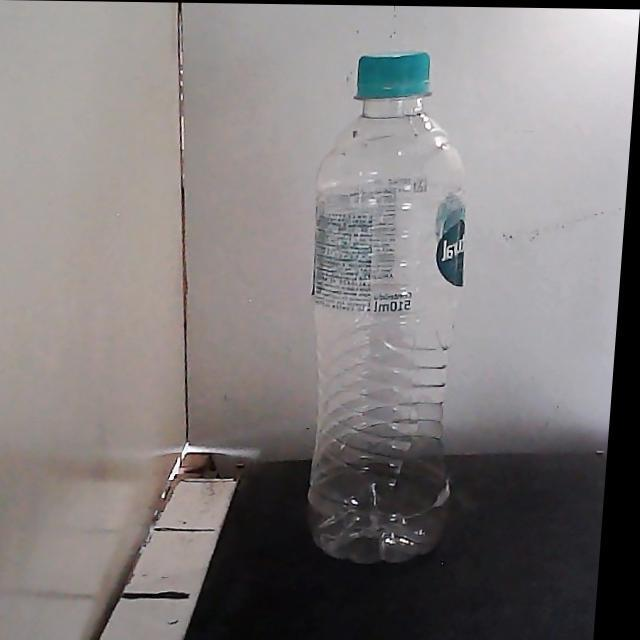plastico: (308, 52, 467, 563)
